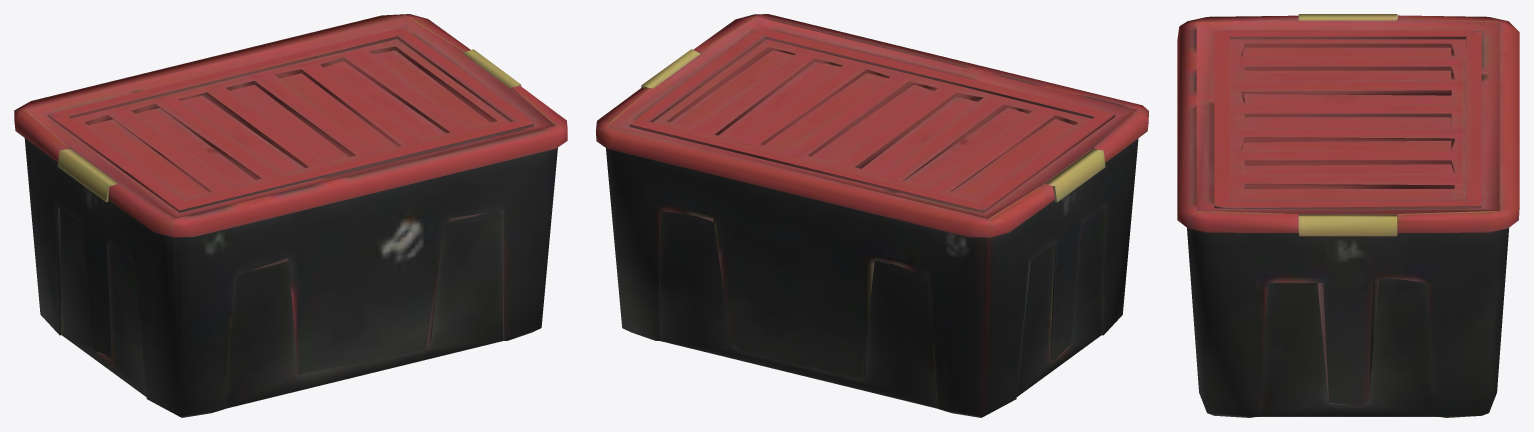
Rendered from cooler.glb.
3 renders of one model, left to right at view 1: azimuth 30°, elevation 25°; view 2: azimuth 150°, elevation 25°; view 3: azimuth 270°, elevation 25°, orthographic.
Visible parts, largest first — view 1: plastic_container; view 2: plastic_container; view 3: plastic_container.
Boxes of the visible parts, x1,y1,x2,y2 form: plastic_container: (14,14,567,417); plastic_container: (596,14,1148,417); plastic_container: (1177,14,1519,417).
Size of the model in its own units: 0.893 by 0.4289 by 0.6236.
1 material, 1 textured.
